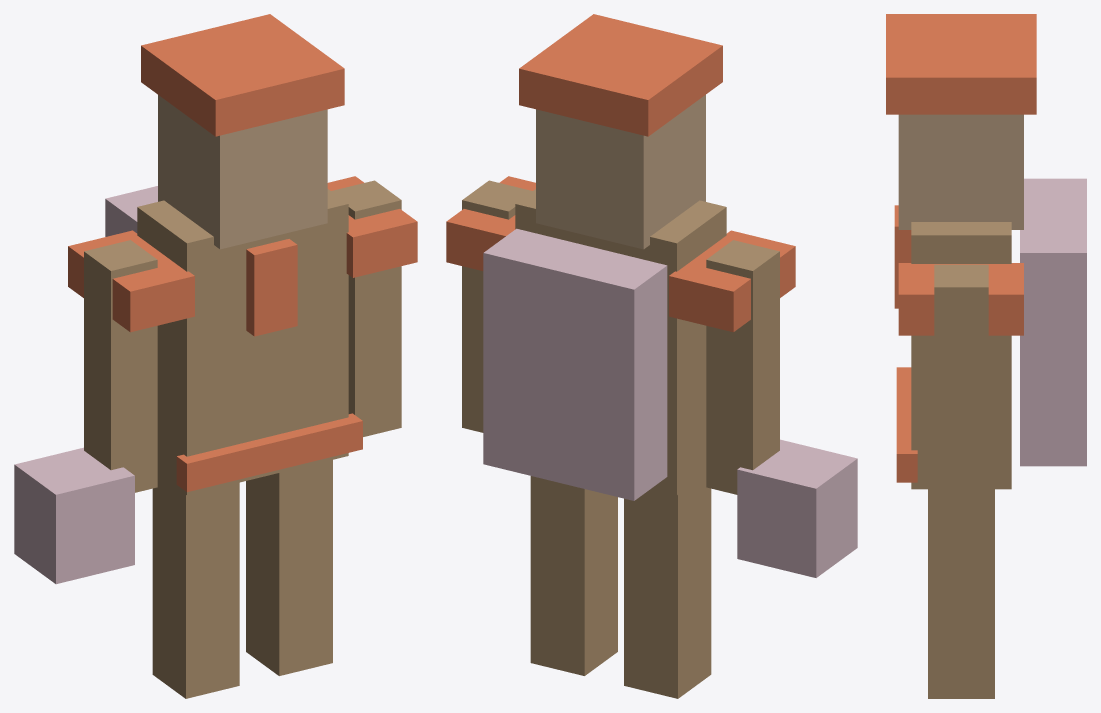
The model's file is 20_sarai_ashvein_archivist_under_accent.glb.
3 renders of one model, left to right at view 1: azimuth 30°, elevation 25°; view 2: azimuth 150°, elevation 25°; view 3: azimuth 270°, elevation 25°, orthographic.
Visible parts, largest first — view 1: Sarai Ashvein, Archivist under Accent; view 2: Sarai Ashvein, Archivist under Accent; view 3: Sarai Ashvein, Archivist under Accent.
Part boxes in pixels (x1,y1,x2,y2): Sarai Ashvein, Archivist under Accent: (14,14,417,698); Sarai Ashvein, Archivist under Accent: (446,14,857,698); Sarai Ashvein, Archivist under Accent: (886,14,1086,698).
Bounding box in the file's own units: 1 × 1.64 × 0.4844.
